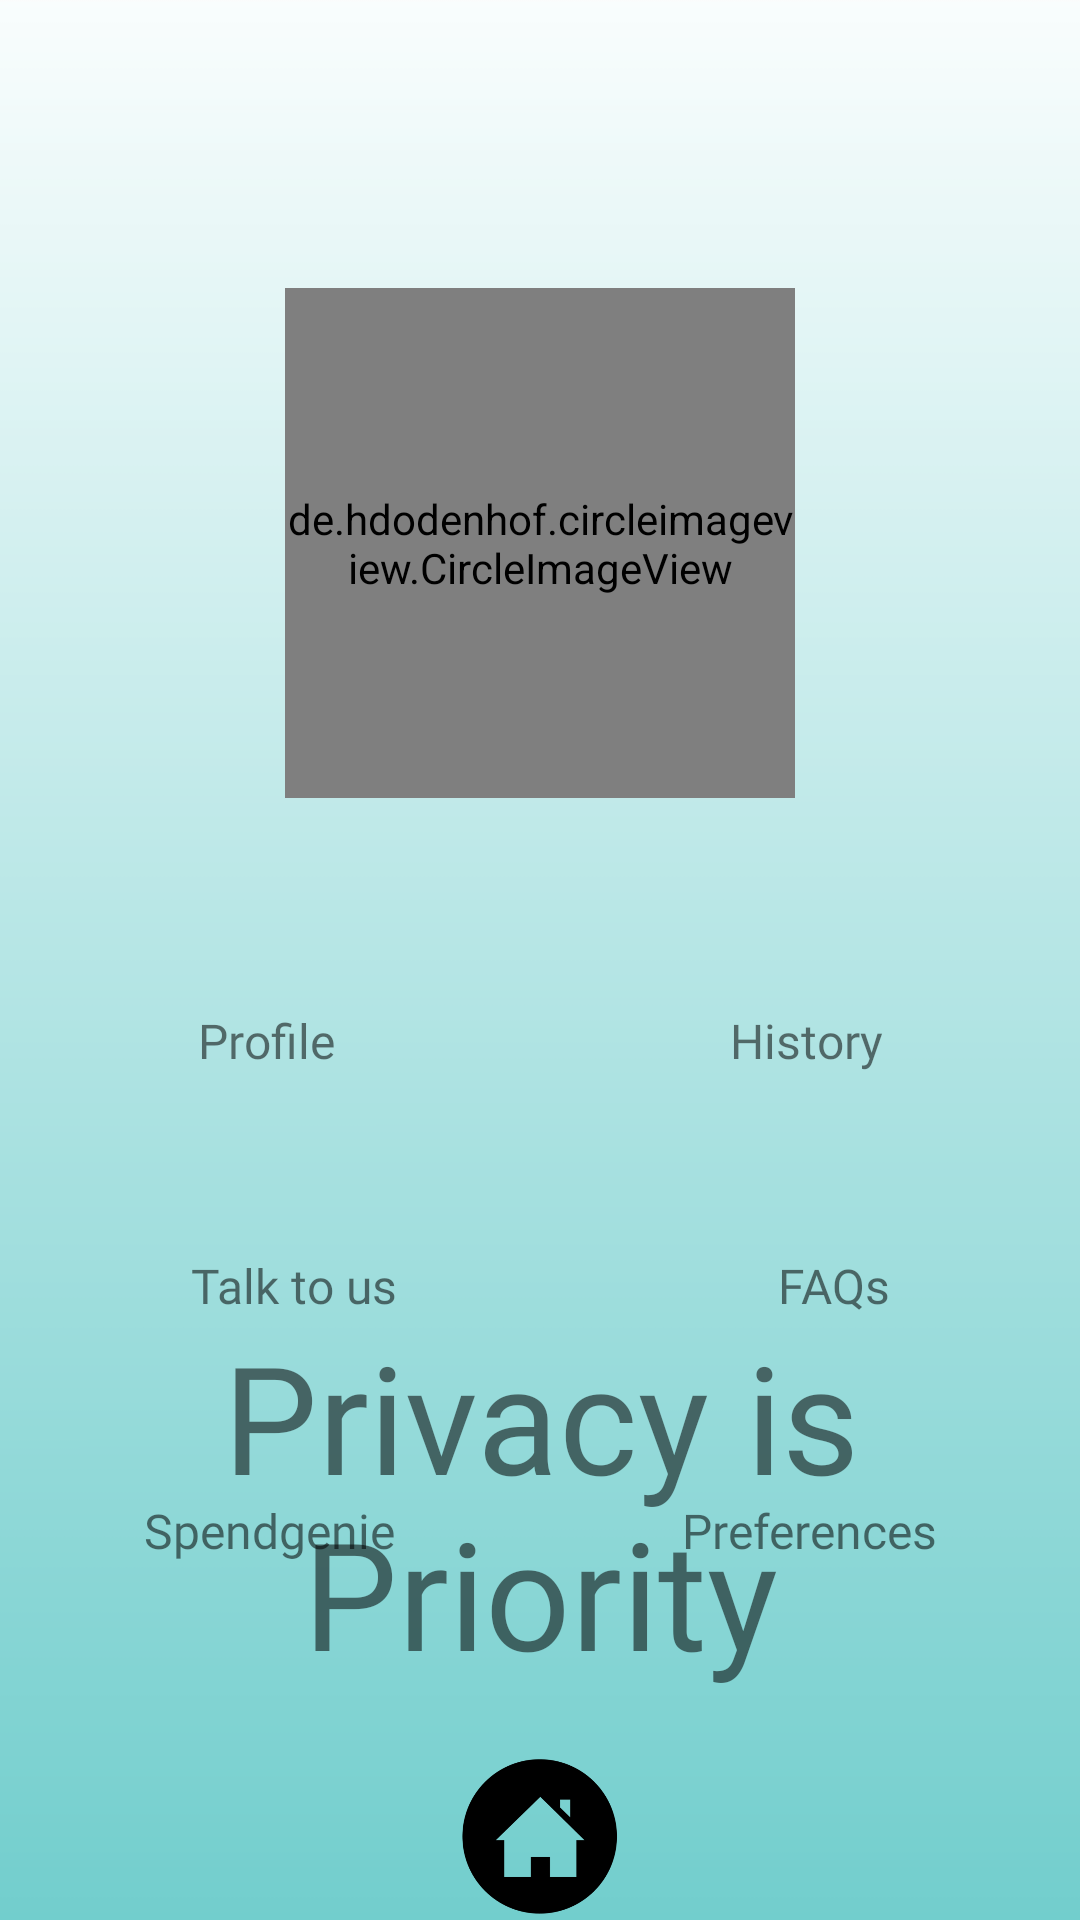

Icons on this 1080px x 1920px Android screen, each with the point to tap as [x,y]:
home: [539,1836]
